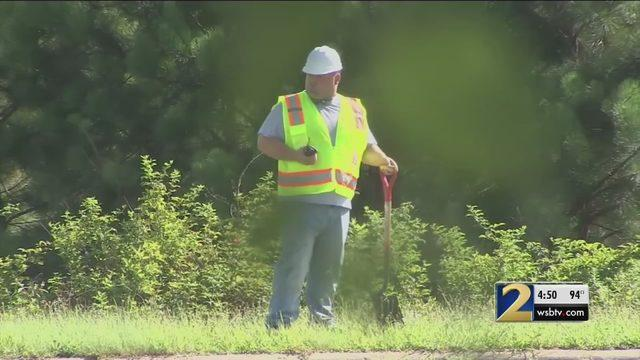helmet: (304, 46, 344, 75)
